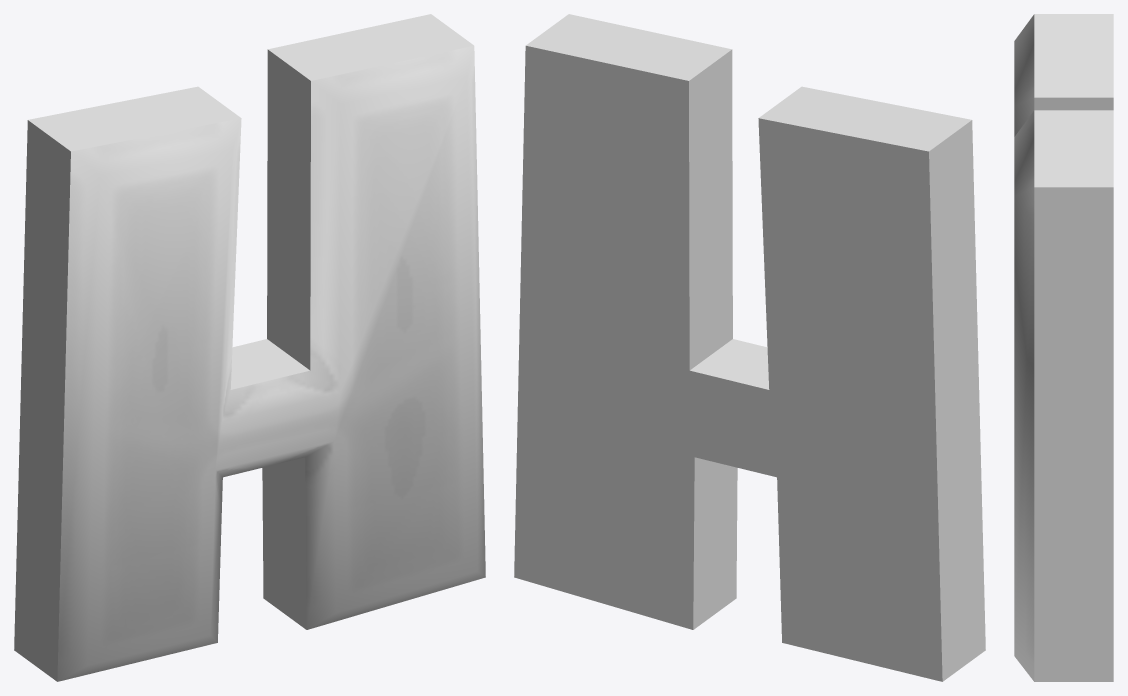
File: LettersStylized01_H.FBX
3 renders of one model, left to right at view 1: azimuth 30°, elevation 25°; view 2: azimuth 150°, elevation 25°; view 3: azimuth 270°, elevation 25°, orthographic. The views are drawn at different scales.
Visible parts, largest first — view 1: LettersStylized01_H; view 2: LettersStylized01_H; view 3: LettersStylized01_H.
Boxes of the visible parts, left/top/right/bottom form: LettersStylized01_H: left=14, top=14, right=485, bottom=681; LettersStylized01_H: left=514, top=14, right=985, bottom=681; LettersStylized01_H: left=1014, top=14, right=1113, bottom=681.
Size of what is drawn, in the model's own units: 0.3888 by 0.4753 by 0.085.
